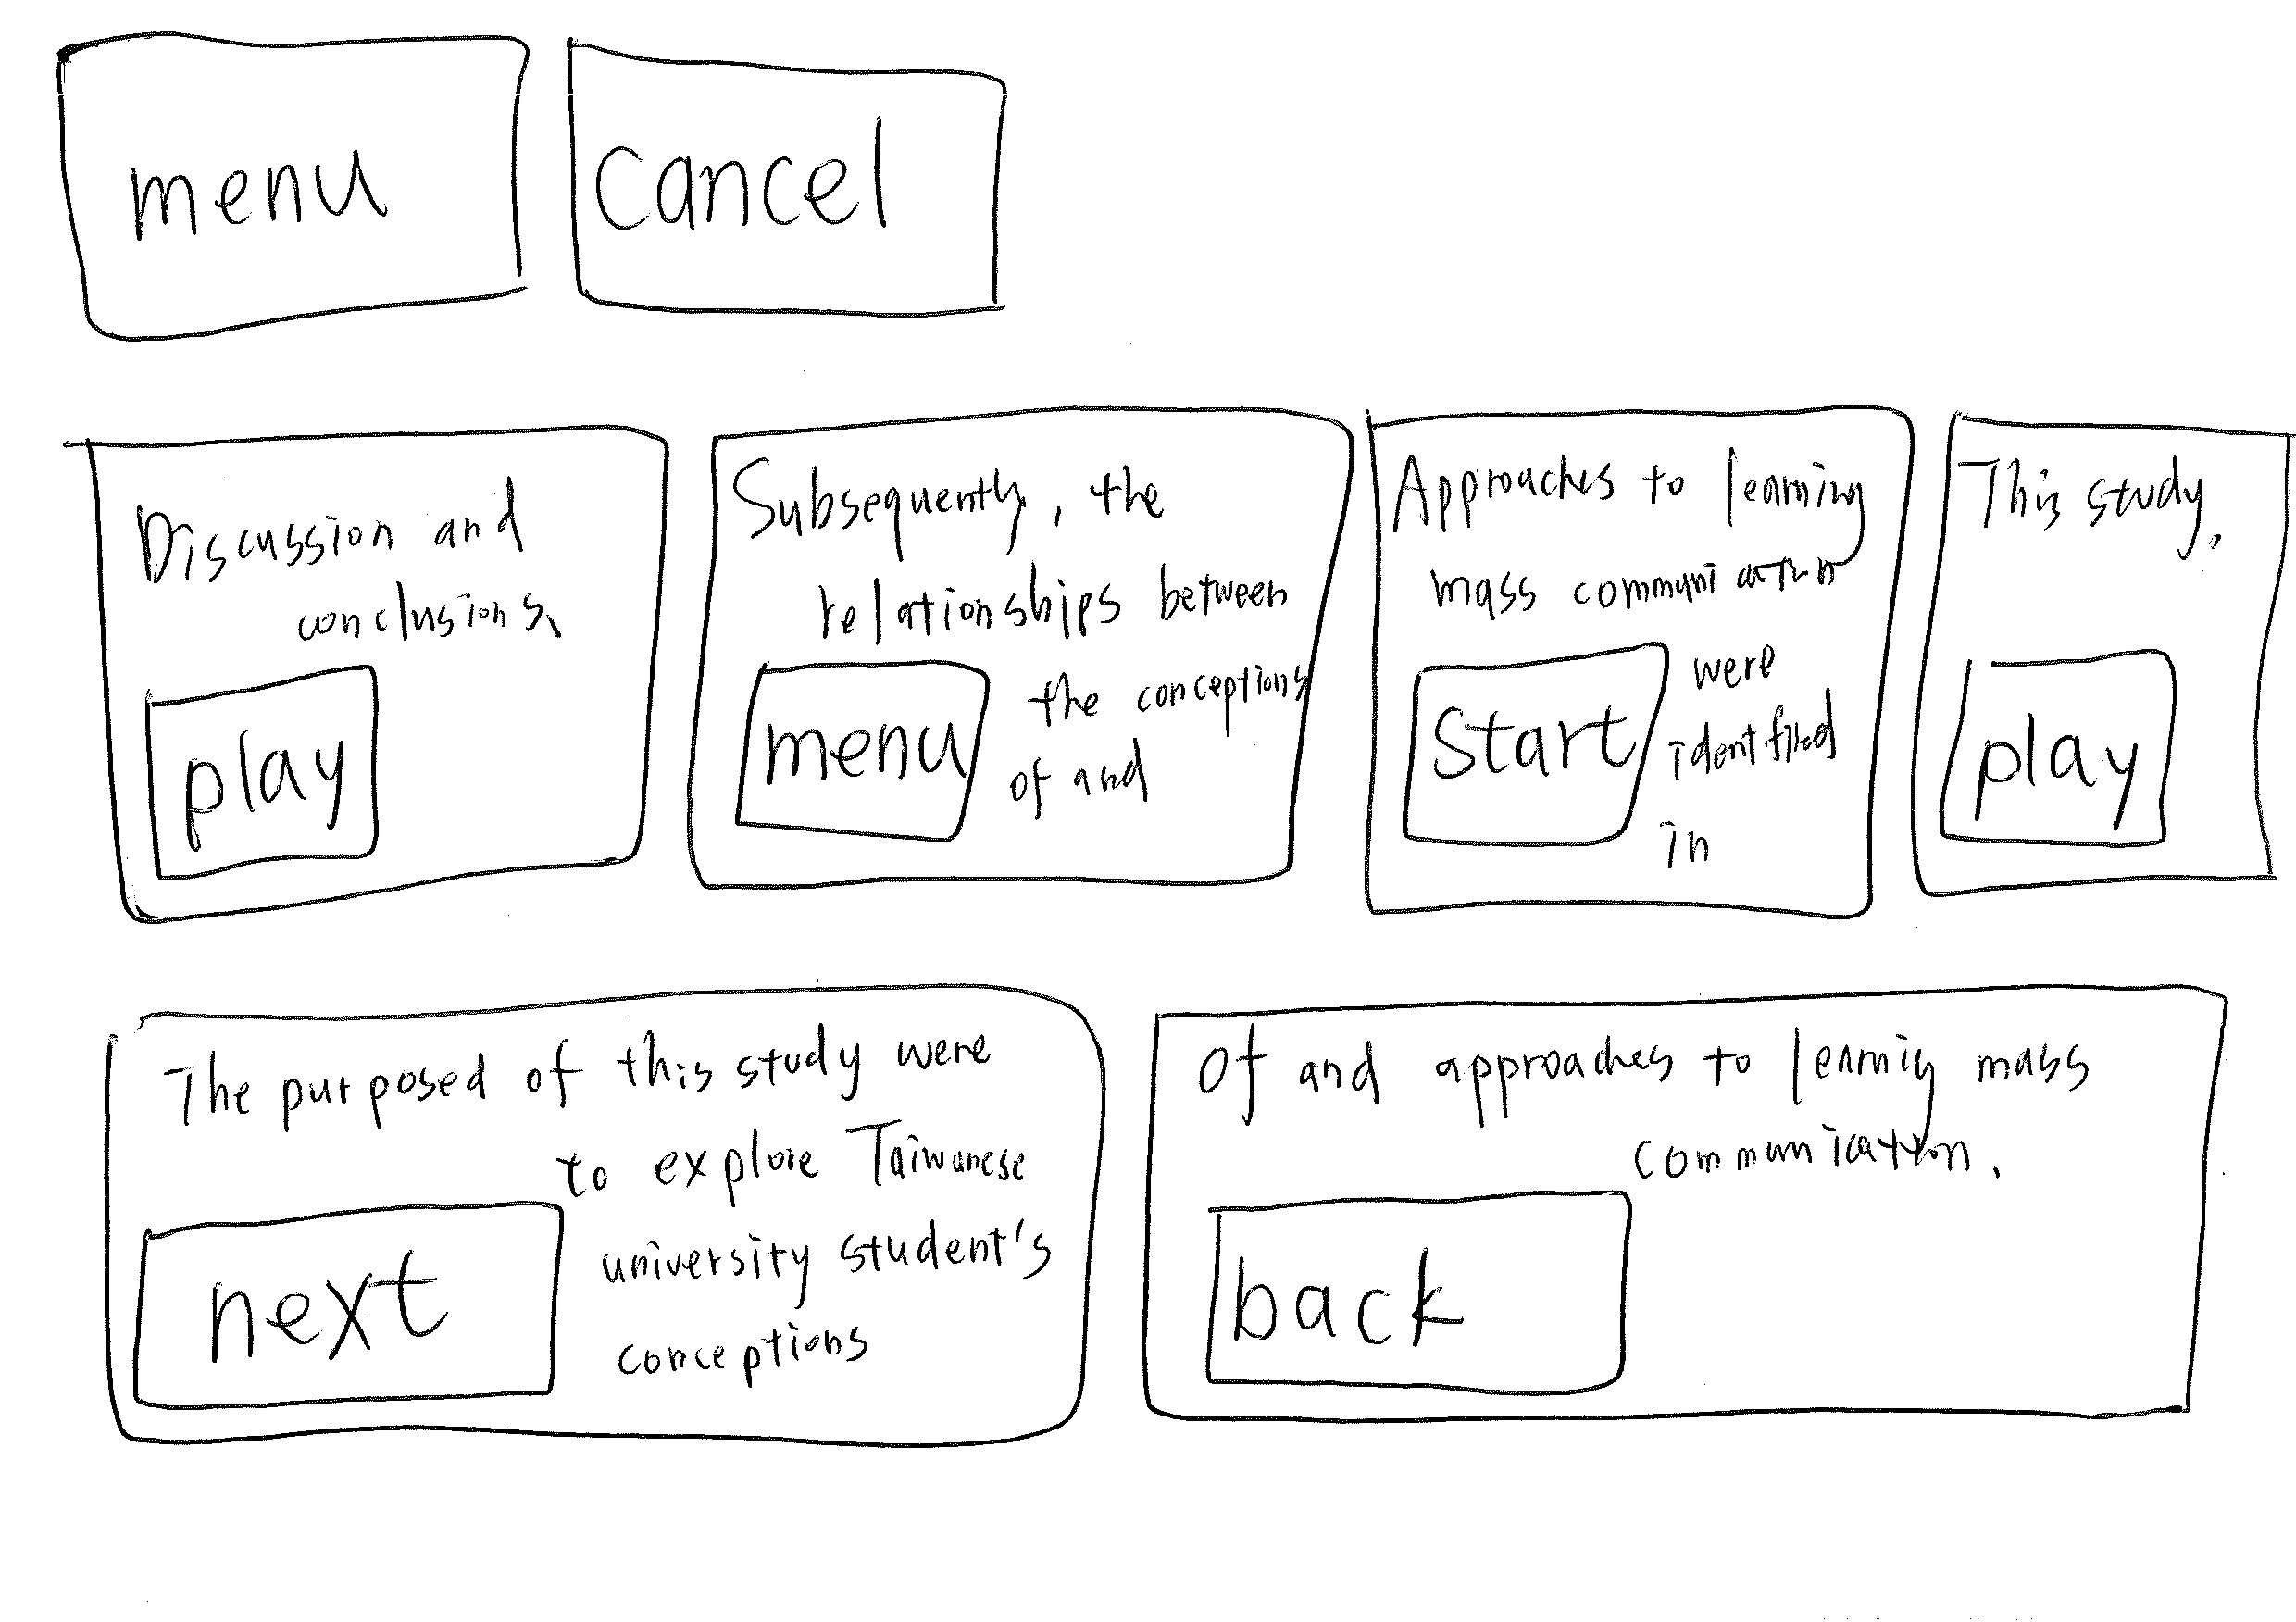back: (1180, 1171, 1657, 1403)
double: (1123, 955, 2280, 1499), (58, 957, 1125, 1494)
menu: (23, 12, 549, 351), (720, 644, 1009, 874)
next: (116, 1181, 569, 1417)
play: (114, 658, 404, 879), (1936, 637, 2203, 867)
quadruple: (655, 376, 1357, 941), (61, 384, 686, 955), (1352, 376, 1936, 972), (1889, 367, 2296, 925)
row: (18, 349, 2296, 978), (18, 937, 2296, 1566), (18, 2, 2296, 358)
small-title: (1213, 1011, 2145, 1115), (149, 1029, 1018, 1115), (1396, 432, 1880, 555), (748, 446, 1202, 521), (151, 493, 530, 576), (1977, 444, 2224, 563)
start: (1390, 641, 1690, 883)
text: (569, 1113, 1055, 1403), (1008, 578, 1274, 807), (1661, 597, 1829, 881), (809, 560, 1285, 628), (1645, 1120, 2040, 1187), (1439, 563, 1840, 621), (267, 569, 565, 639)
